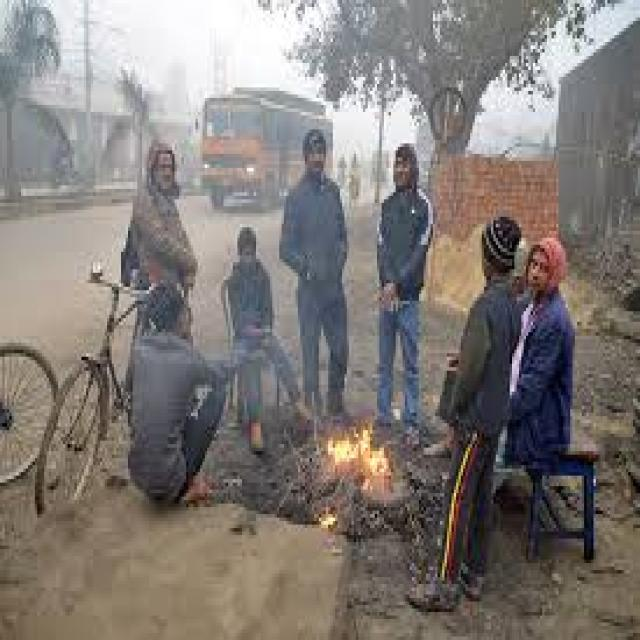fire: (328, 429, 388, 475)
